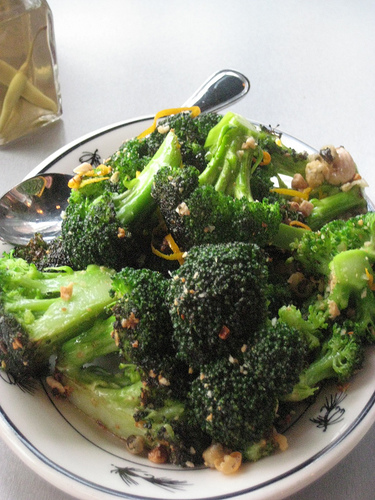broccoli: (150, 112, 281, 250), (166, 241, 273, 366), (182, 356, 291, 448)
